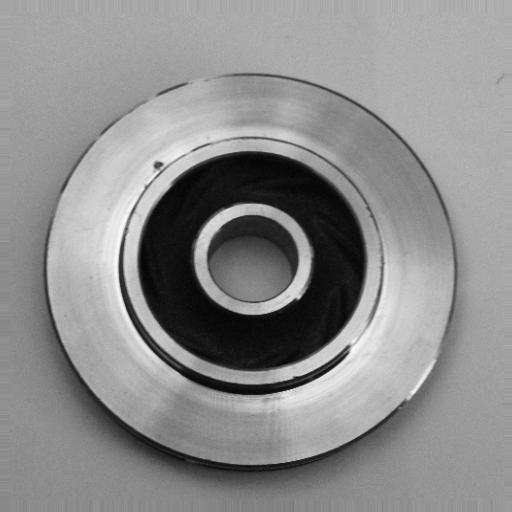crack: (138, 150, 171, 184)
scratch: (339, 280, 393, 369)
unpolished_casting: (39, 70, 461, 472)
